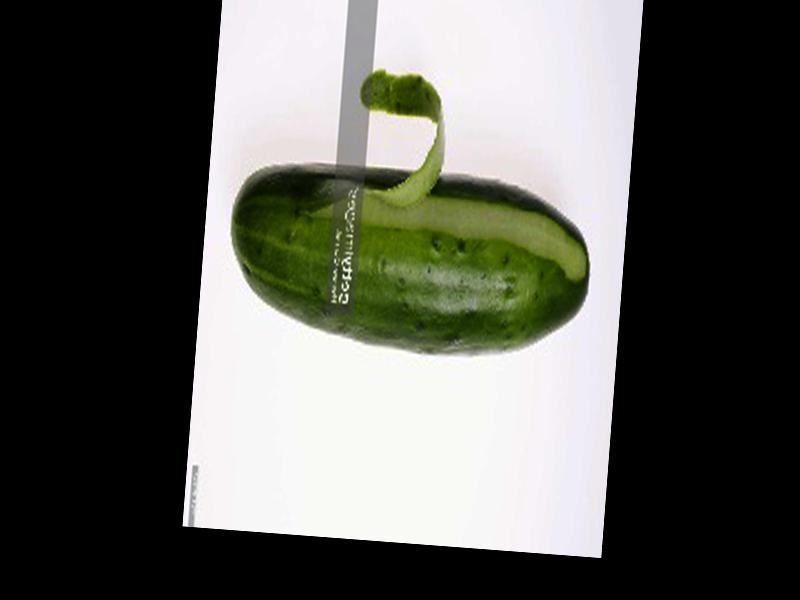Cucumber: (222, 154, 597, 363)
